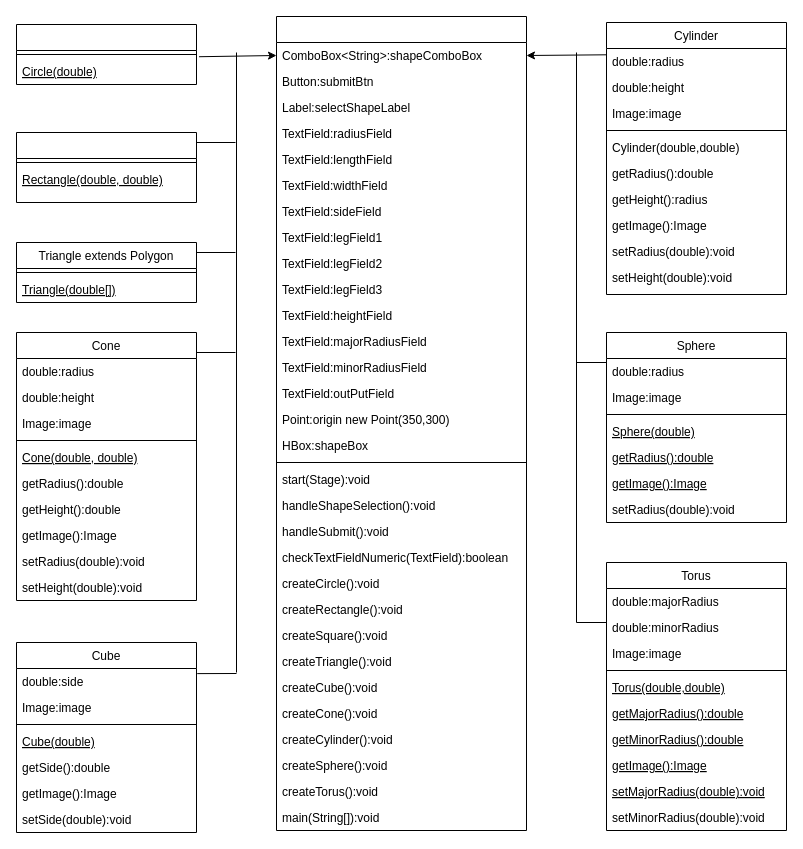
This 803x849 diagram has some shape labels left out. Each missing label, with the box of its shape:
Circle_ extends Circle: (16, 24, 196, 84)
Main extends Application: (276, 16, 526, 830)
Rectangle_ extends Rectangle: (16, 132, 196, 202)
